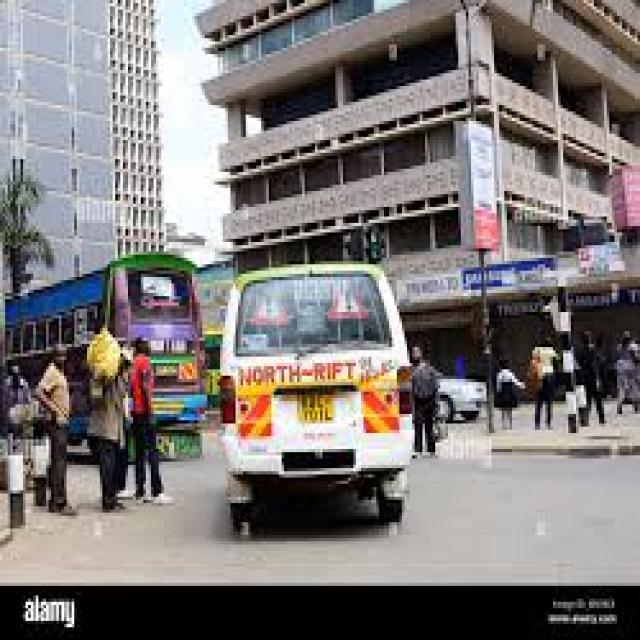bus: (2, 238, 225, 343)
matatu: (215, 247, 416, 536)
